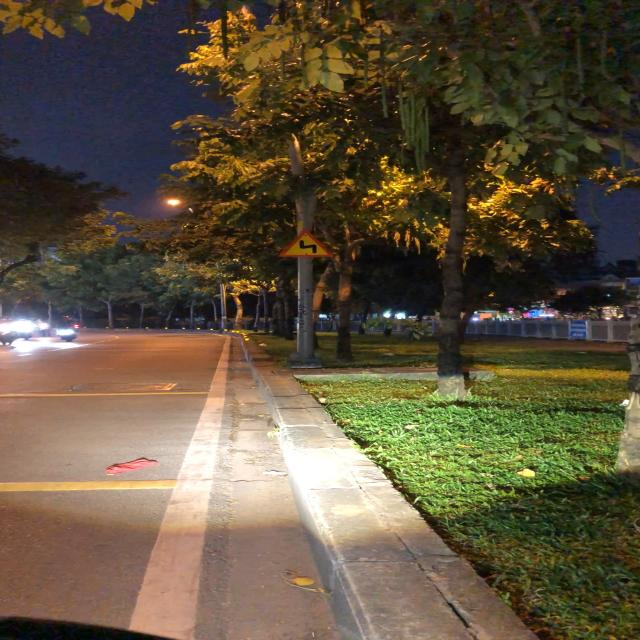Bien bao nhieu cho ngoat nguy hiem lien tiep: (274, 227, 336, 258)
